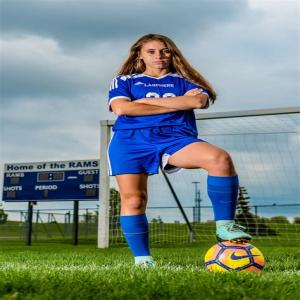Football: (201, 240, 267, 278)
